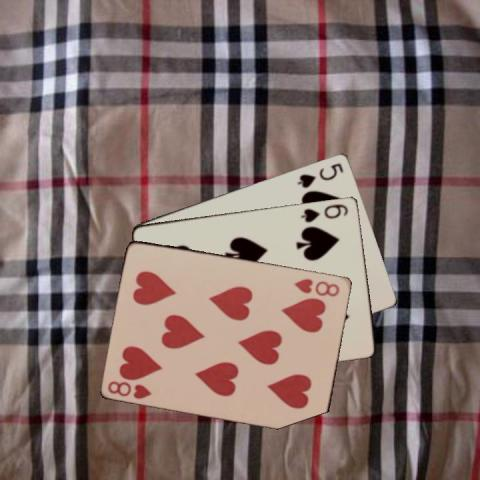5s: (295, 160, 345, 190)
6s: (298, 201, 350, 224)
8h: (105, 377, 153, 401), (292, 275, 342, 298)
